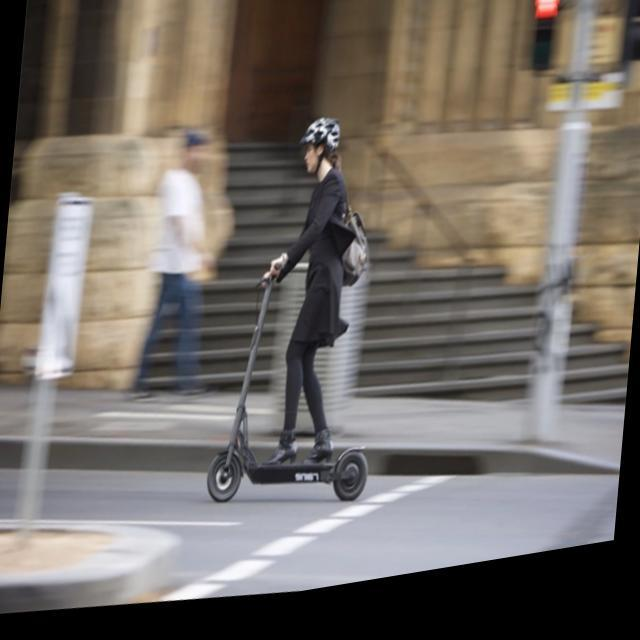Helmet: (289, 108, 349, 190)
